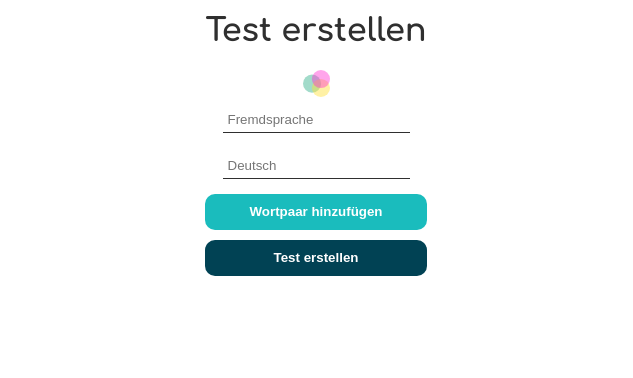
it: add wordpairs to the list
This screenshot has width=633, height=378.
Type "the car" into the field with placeholder "Fremdsprache" at (316, 120), box [222,107,410,133]
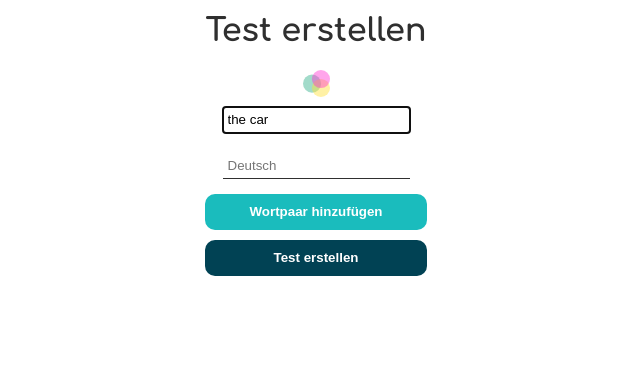
Type "das Auto" into the field with placeholder "Deutsch" at (316, 166), box [222,153,410,179]
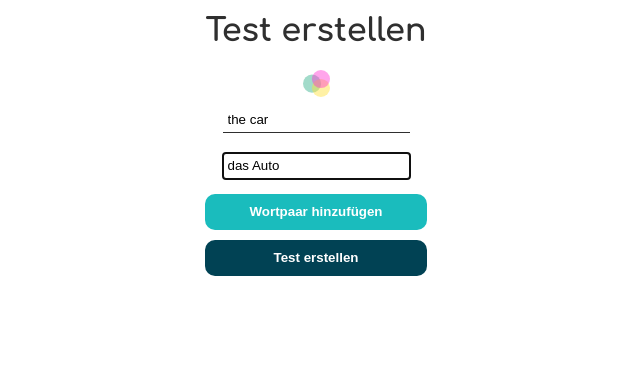
Click the button "Wortpaar hinzufügen" at (316, 212), box [205,194,427,230]
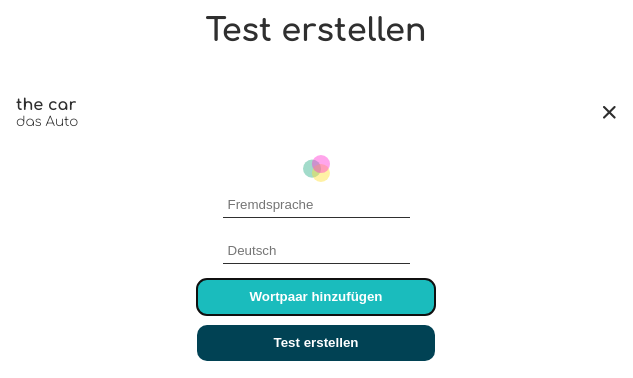
Check: the text "the car" is shown, box [16,96,76,114]
Check: the text "das Auto" is shown, box [16,114,78,129]
